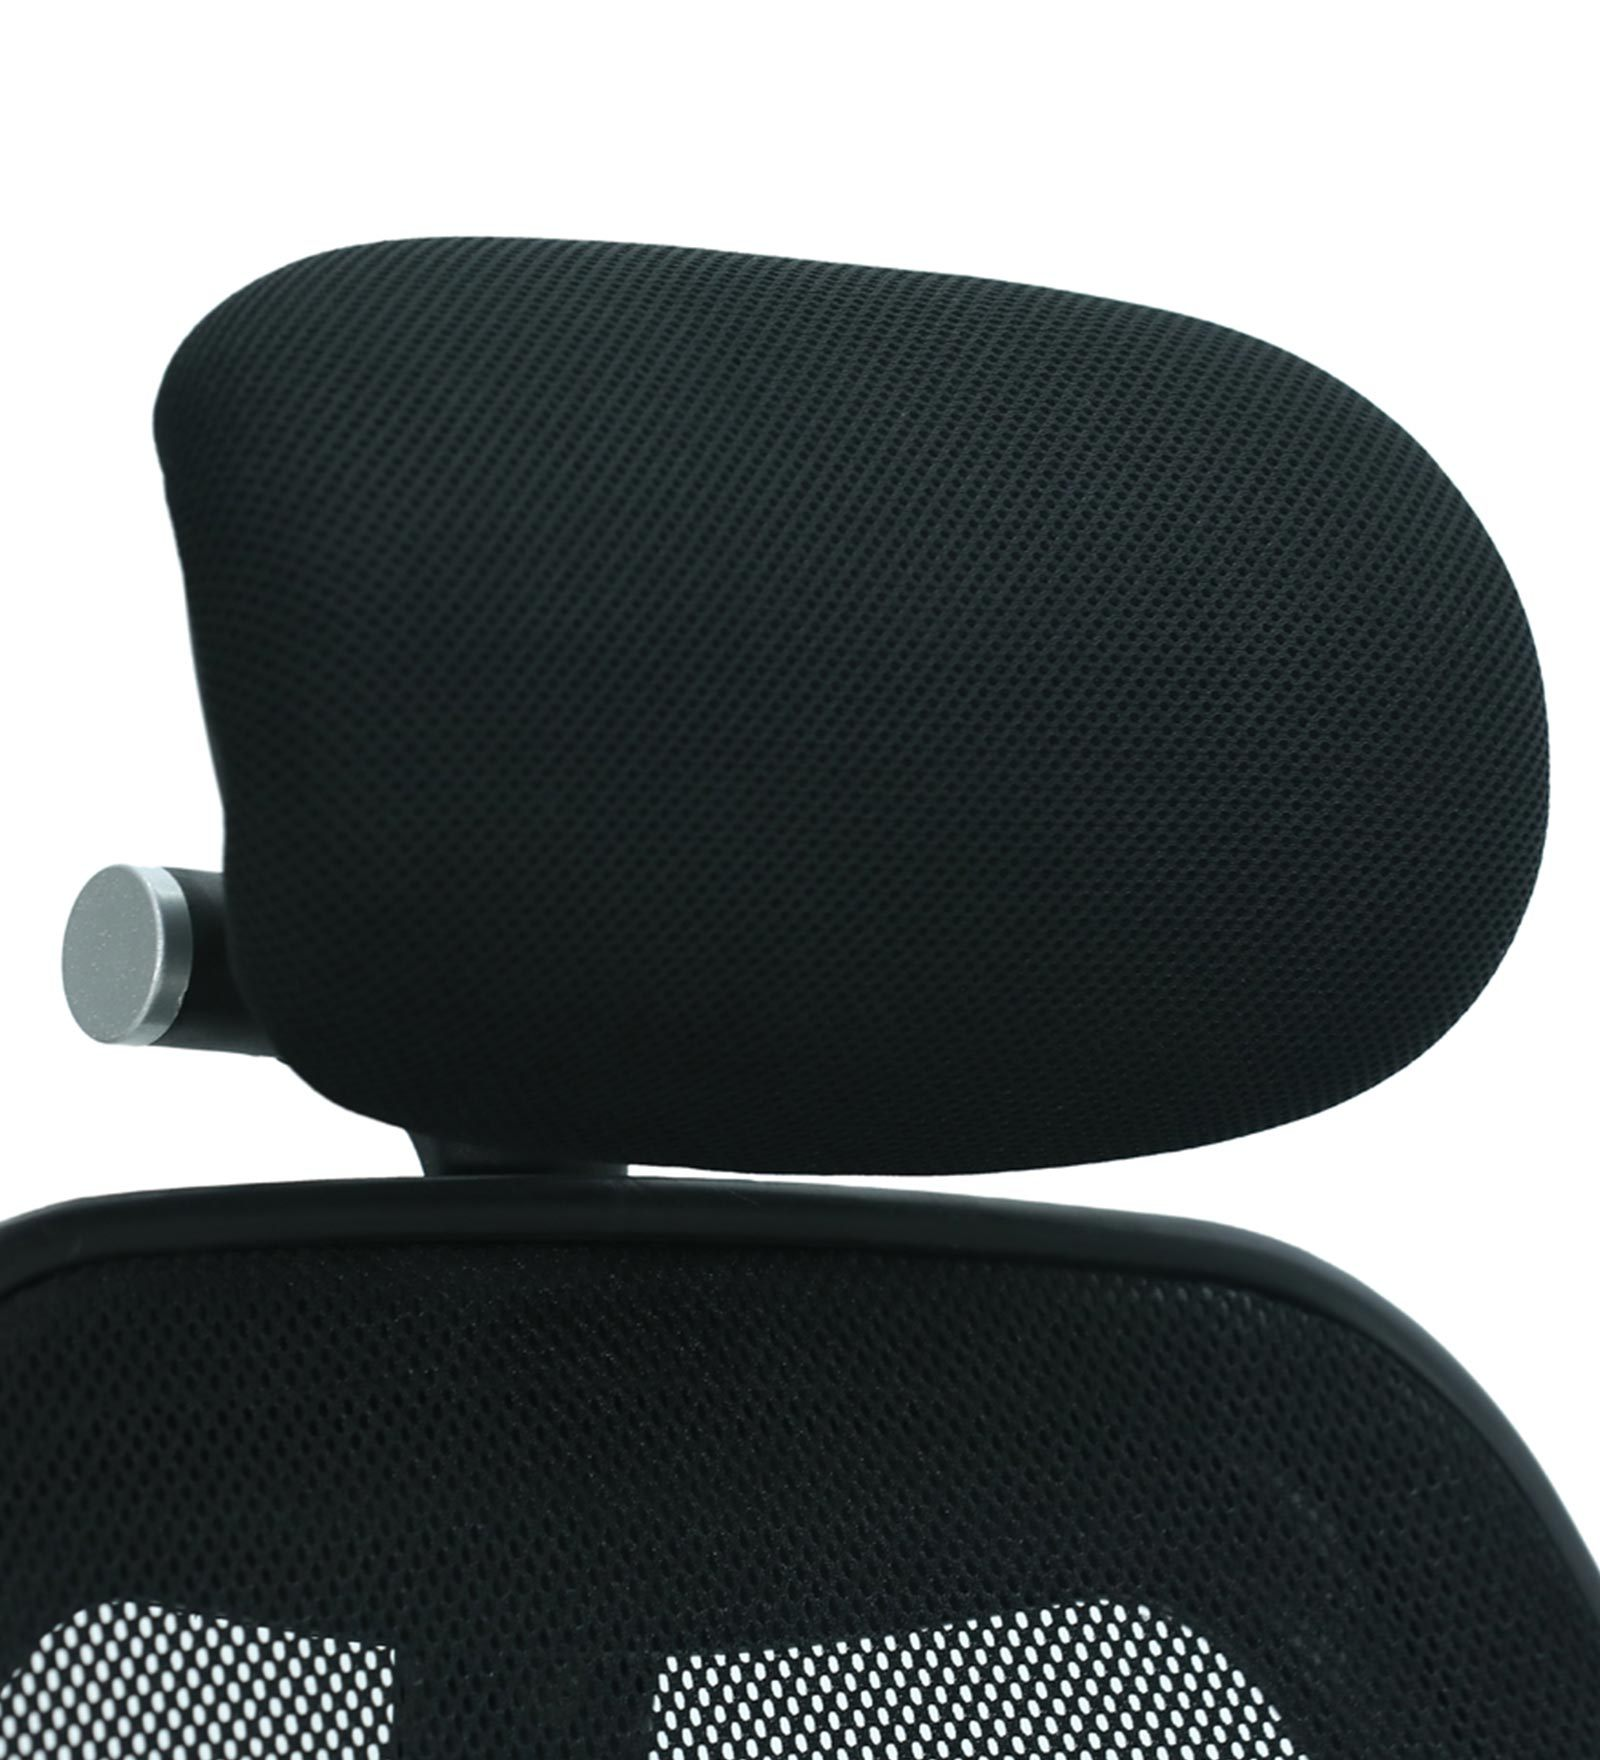Swivel High Back Ergonomic Chair with headrest In Black Colour By Furniease: (54, 202, 1572, 1760)
